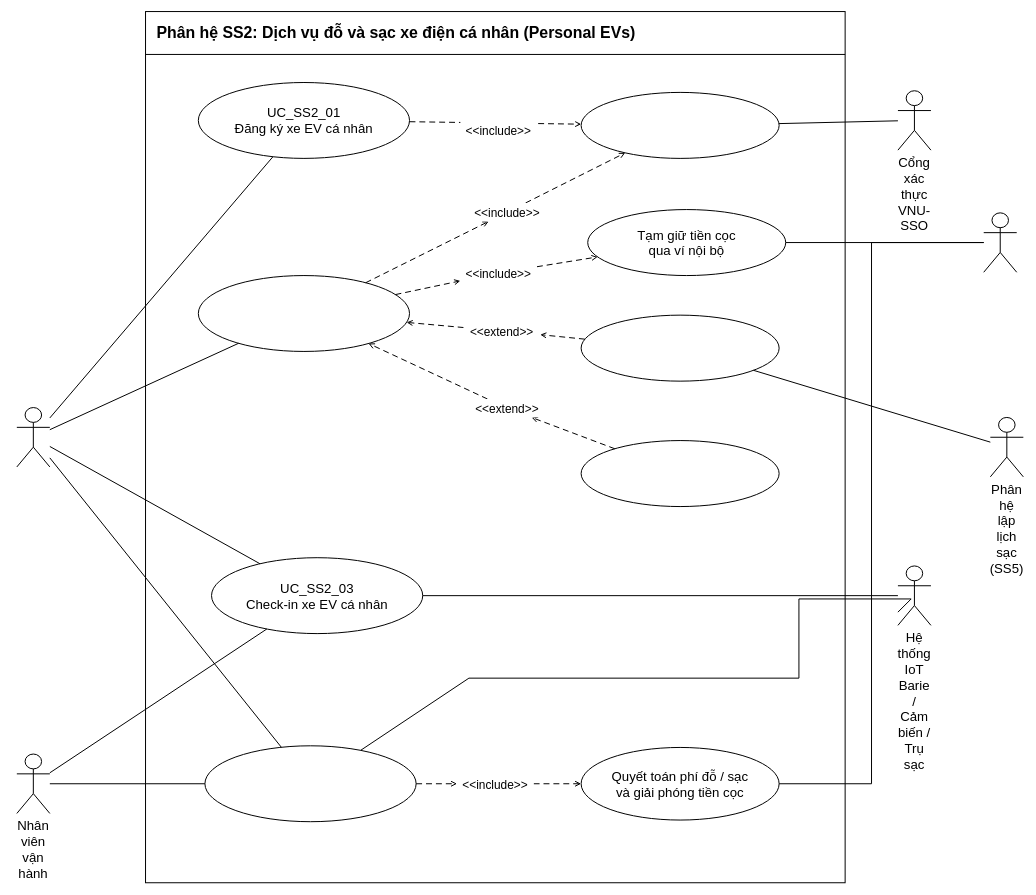
Image size: 1036x895. Some labels were removed from this diagram. The shapes that lost their labels are listed below. From the top down, each one's centre as x and y in pixels, then its label:
(679,125): Xác thực VNU-SSO
(1000,242): Cổng thanh toán & Ví điện tử nội bộ
(304,313): UC_SS2_02 Đặt chỗ đỗ và nhu cầu sạc xe EV cá nhân
(679,347): Ghi nhận yêu cầu sạc
(33,437): Sinh viên ĐHQG-HCM
(679,473): Áp dụng voucher
(310,783): UC_SS2_04 Check-out và thanh toán dịch vụ xe EV cá nhân
